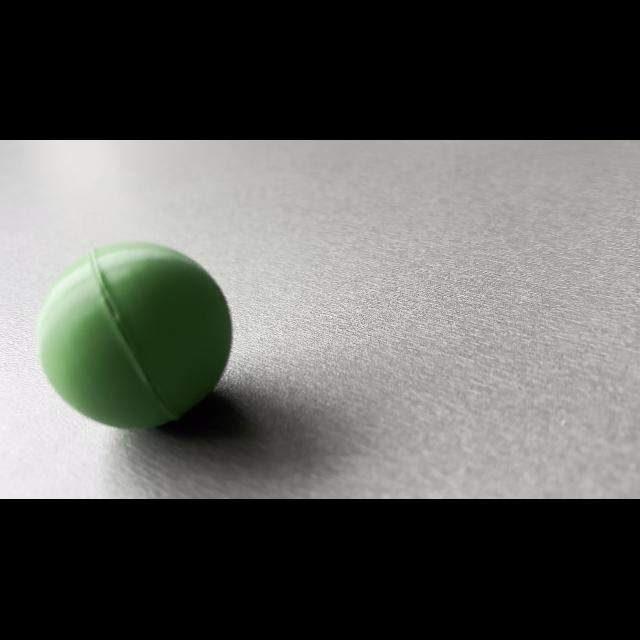objects: (20, 231, 252, 437)
